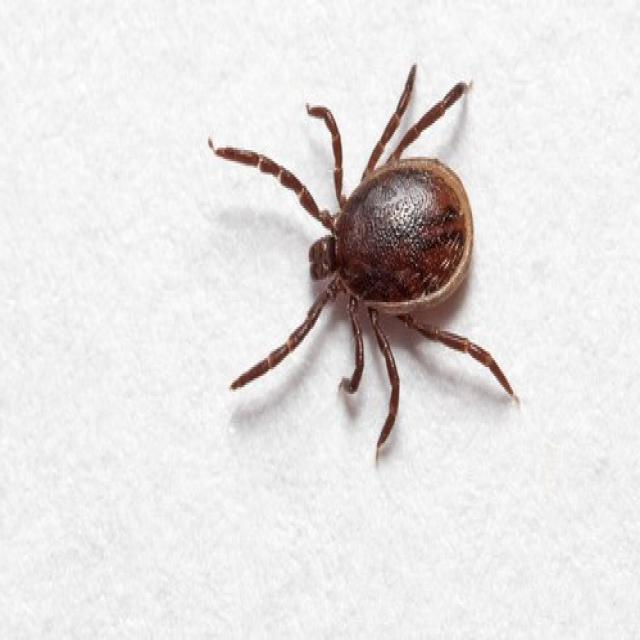Ixodes Ricinus-M: (209, 65, 521, 459)
